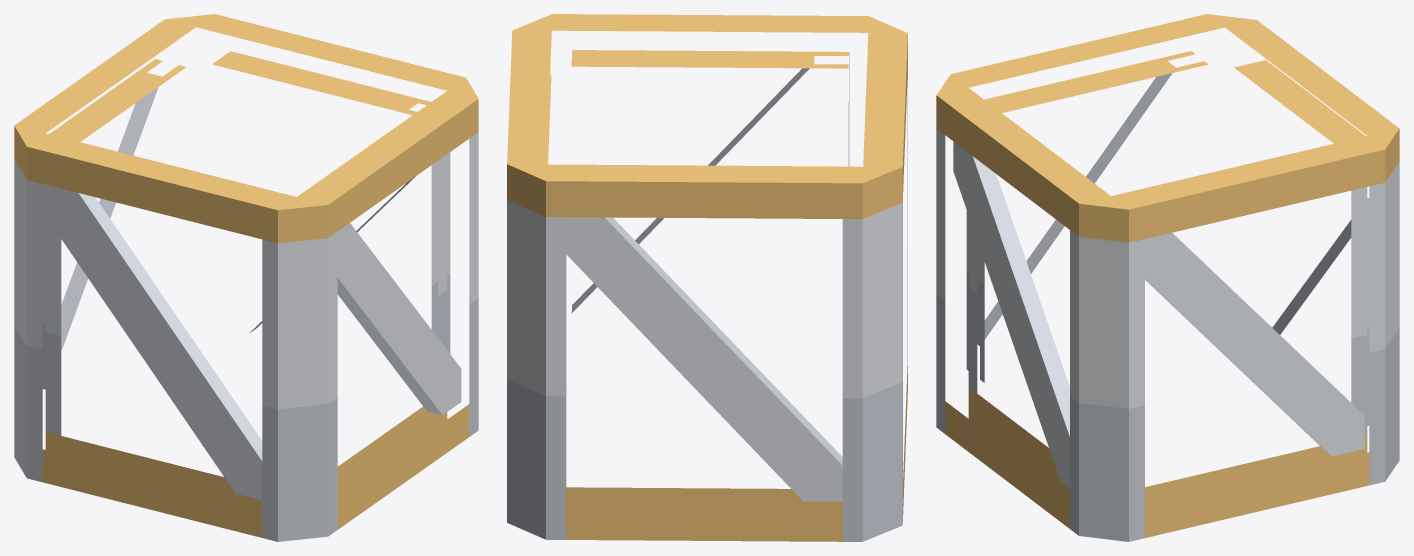
Rendered from coin_structure_diagonal_lev1.002_lev2.glb.
The picture shows the model from 3 angles, left to right: view 1: azimuth 30°, elevation 25°; view 2: azimuth 150°, elevation 25°; view 3: azimuth 270°, elevation 25°; orthographic projection. The views are drawn at different scales.
Parts seen in each view (by area): view 1: coin_structure_diagonal_lev1.002_lev2; view 2: coin_structure_diagonal_lev1.002_lev2; view 3: coin_structure_diagonal_lev1.002_lev2.
Boxes of the visible parts, box(x1,y1,x2,y2) form: coin_structure_diagonal_lev1.002_lev2: box(14, 14, 478, 541); coin_structure_diagonal_lev1.002_lev2: box(507, 14, 907, 541); coin_structure_diagonal_lev1.002_lev2: box(936, 14, 1399, 541).
Size of the model in its own units: 1.26 by 1 by 1.26.
